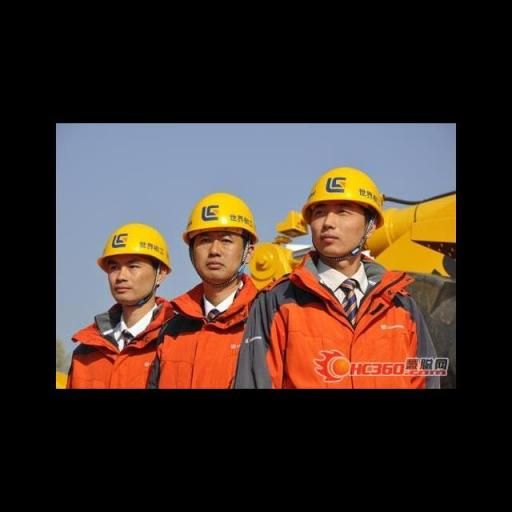Person: (272, 152, 442, 393), (163, 180, 270, 390), (78, 208, 174, 386)
helmet: (298, 160, 392, 233), (180, 184, 260, 252), (93, 222, 173, 276)
vest: (226, 240, 444, 388), (148, 270, 295, 388), (62, 294, 176, 388)
